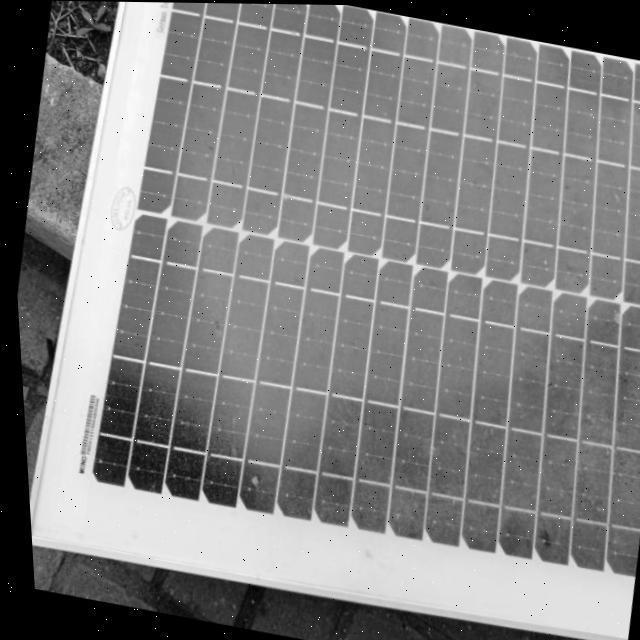Surface Contaminant: (101, 2, 640, 590)
